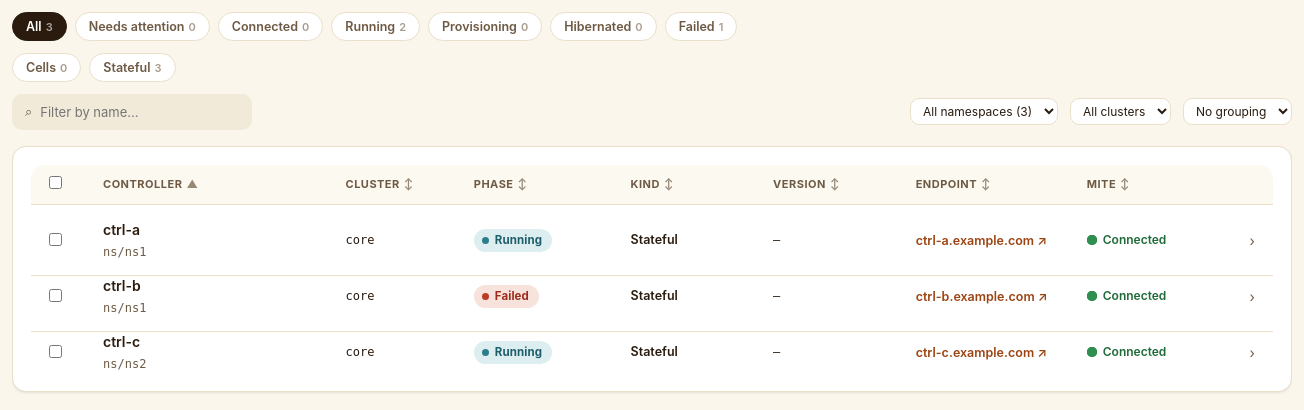
BroodControllerPicker › Namespace filter › ANDs the namespace filter with the phase filter
Select "ns1 (2)" in the dropdown named "Namespace". click: x=984, y=112
box: x1=910 y1=98 x2=1058 y2=125
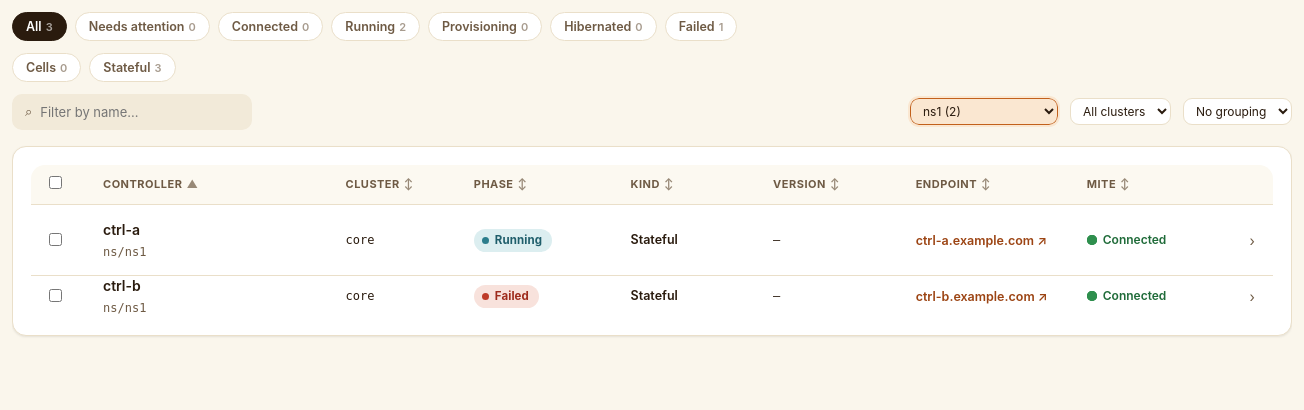
Click the button "Failed 1". click: x=701, y=26
box: x1=665 y1=12 x2=737 y2=41
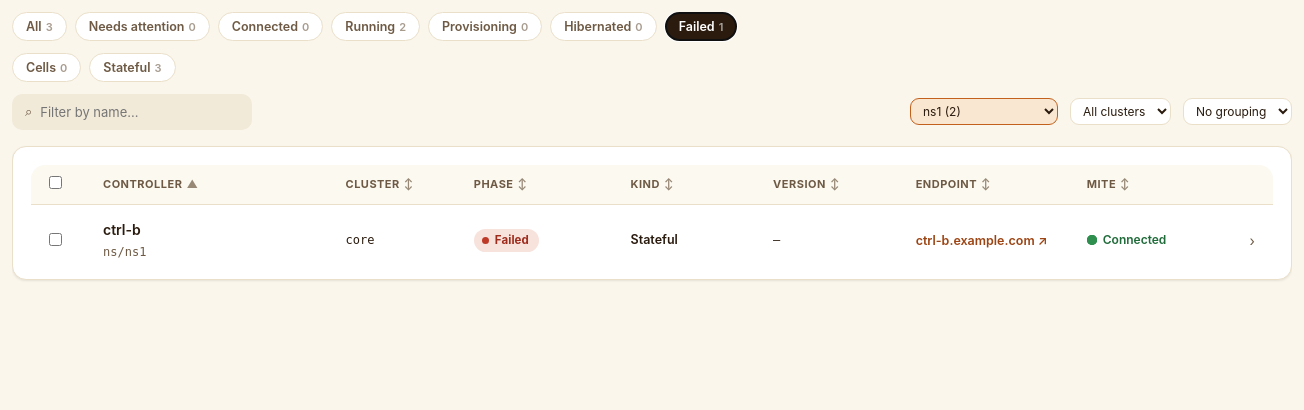
Expected: the text "ctrl-b" is shown, x1=103 y1=219 x2=146 y2=240
Now the button "ctrl-a" is gone
